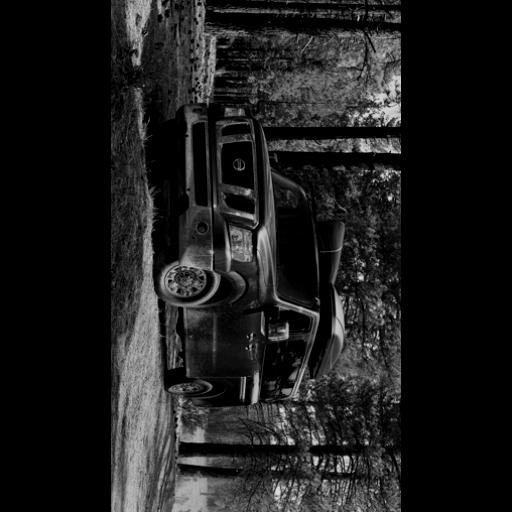van: (148, 103, 340, 409)
